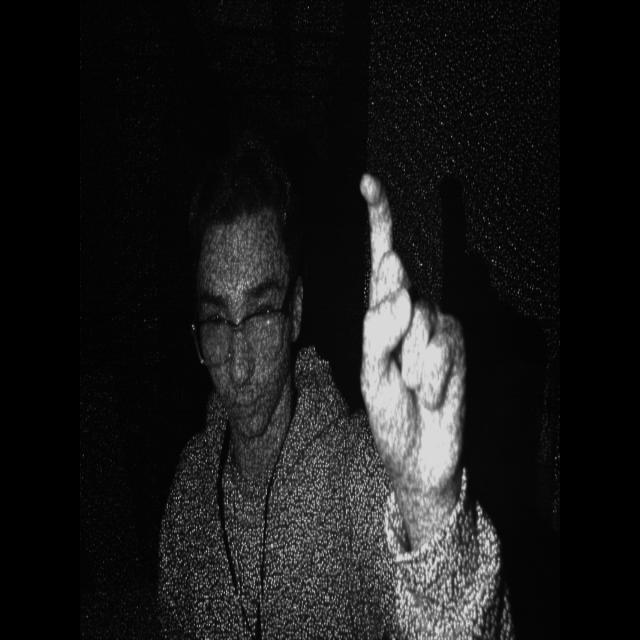X: (339, 150, 482, 506)
